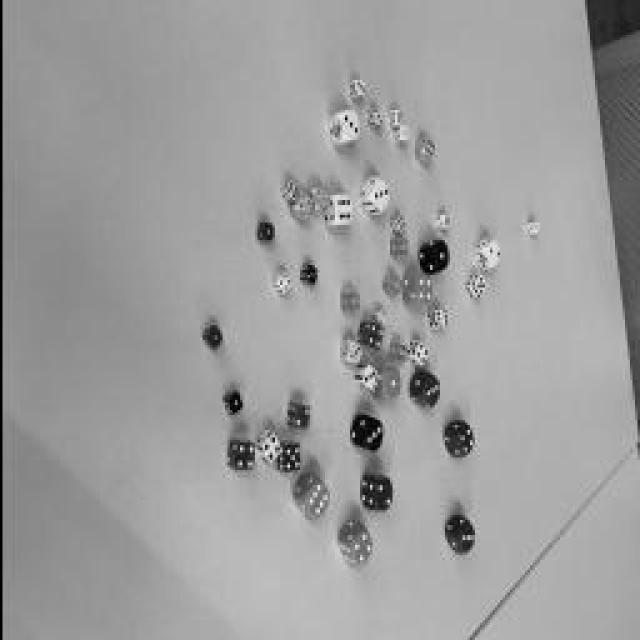dice_1: (382, 370, 398, 398), (433, 244, 445, 268), (226, 394, 239, 414), (206, 328, 219, 348), (261, 224, 271, 241), (400, 126, 405, 139), (532, 222, 538, 232)
dice_2: (374, 480, 388, 510), (292, 405, 308, 427), (296, 195, 309, 215), (488, 241, 498, 264), (315, 188, 325, 208), (376, 310, 384, 325)
dice_3: (362, 421, 380, 449), (372, 181, 386, 209), (340, 112, 355, 138), (422, 378, 438, 402), (458, 525, 472, 550), (361, 368, 374, 388), (305, 266, 315, 284), (348, 344, 358, 361), (352, 80, 362, 95), (372, 107, 380, 125), (397, 240, 405, 255)
dice_4: (351, 531, 369, 564), (261, 432, 279, 462), (234, 445, 251, 470), (415, 276, 430, 304), (365, 325, 380, 350), (458, 428, 472, 452), (413, 343, 425, 365), (389, 275, 399, 295), (278, 274, 288, 291)
dice_5: (282, 445, 298, 470), (472, 275, 482, 295)
dice_6: (305, 482, 325, 516), (334, 198, 348, 222), (284, 180, 296, 200), (434, 309, 444, 329), (422, 140, 432, 158), (346, 292, 356, 310), (395, 345, 405, 363), (392, 215, 402, 230), (394, 110, 401, 125), (442, 215, 448, 227)
